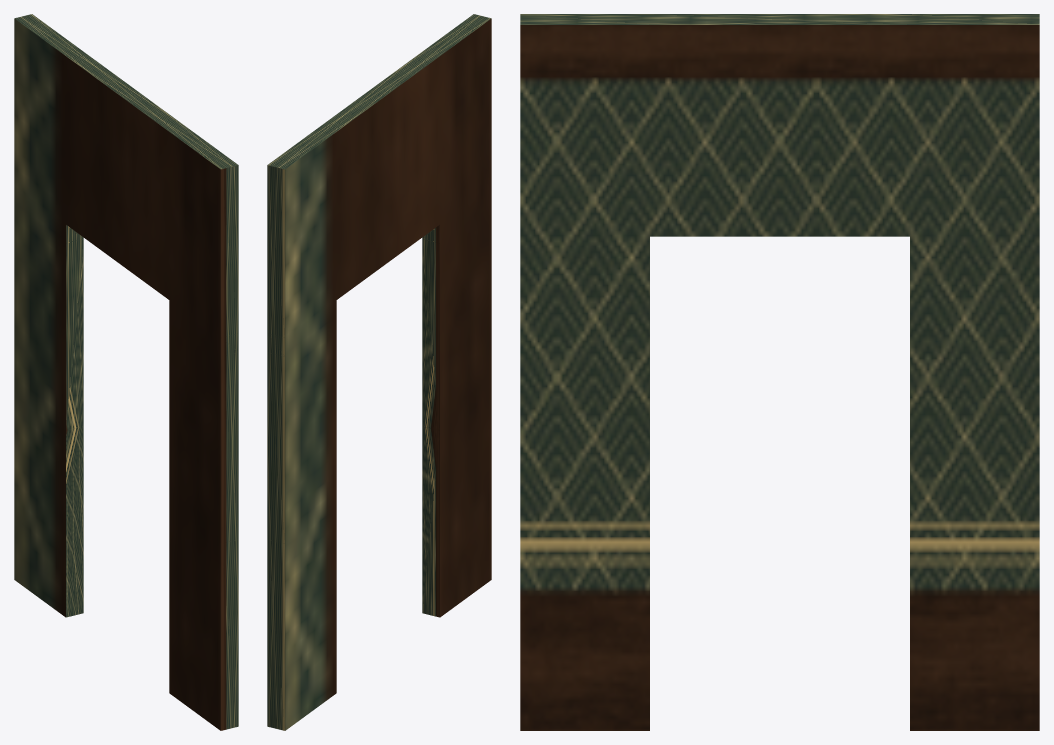
The model's file is DoorWay.glb.
3 views of the same model, side by side, from view 1: azimuth 30°, elevation 25°; view 2: azimuth 150°, elevation 25°; view 3: azimuth 270°, elevation 25° (orthographic). The views are drawn at different scales.
Parts seen in each view (by area): view 1: DoorWay; view 2: DoorWay; view 3: DoorWay.
Part boxes in pixels (x1,y1,x2,y2): DoorWay: (14, 14, 238, 730); DoorWay: (267, 14, 491, 730); DoorWay: (520, 14, 1039, 730).
Size of the model in its own units: 0.1 by 3 by 2.
Materials: 1 (1 with a texture image).
